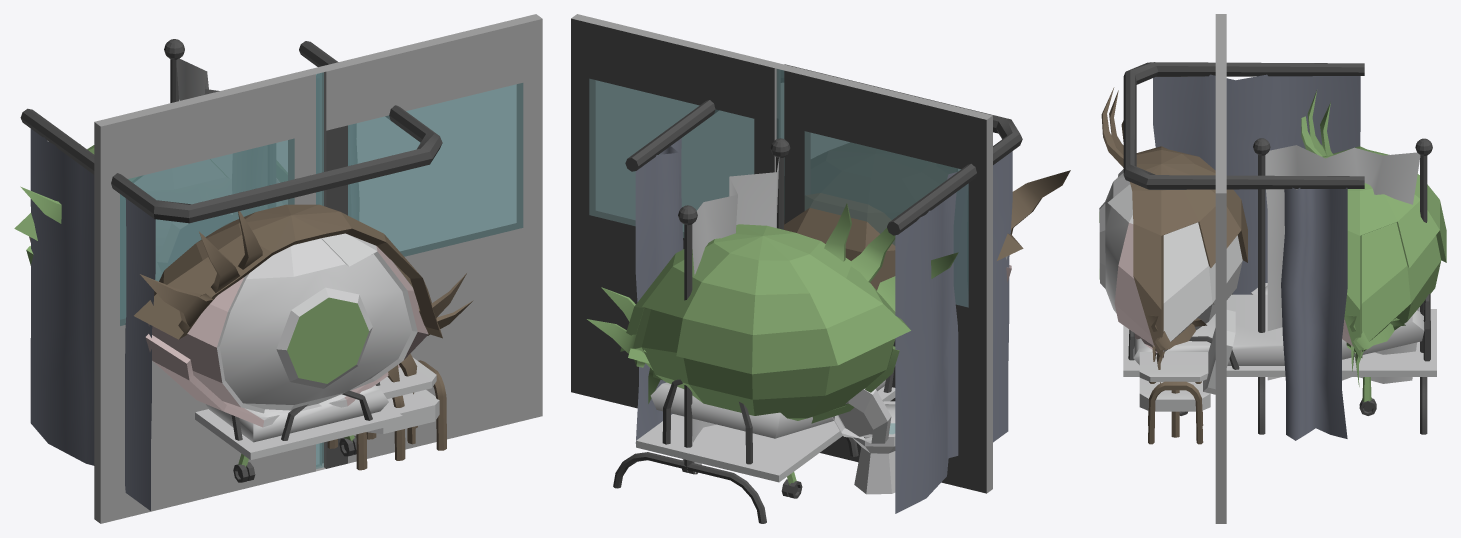
File: AssetsIv01.fbx
3 renders of one model, left to right at view 1: azimuth 30°, elevation 25°; view 2: azimuth 150°, elevation 25°; view 3: azimuth 270°, elevation 25°, orthographic. The views are drawn at different scales.
Parts seen in each view (by area): view 1: SM_PorteEntree, SM_Oeil1, SM_RideauLit, SM_Lit, SM_Chaise, SM_TableBasse, SM_Rideau, SM_Oeil2; view 2: SM_PorteEntree, SM_Oeil2, SM_RideauLit, SM_Lit, SM_Rideau, SM_Oeil1, SM_Toilette; view 3: SM_RideauLit, SM_Oeil1, SM_Oeil2, SM_Rideau, SM_Lit, SM_PorteEntree, SM_Chaise, SM_TableBasse.
Part boxes in pixels (x1,y1,x2,y2): SM_PorteEntree: (94,14,542,523); SM_Oeil1: (134,204,473,427); SM_RideauLit: (20,41,442,510); SM_Lit: (195,382,402,482); SM_Chaise: (327,360,446,470); SM_TableBasse: (366,357,436,460); SM_Rideau: (164,39,219,102); SM_Oeil2: (14,144,94,265); SM_PorteEntree: (571,14,992,493); SM_Oeil2: (587,203,958,423); SM_RideauLit: (625,64,1022,513); SM_Lit: (636,369,895,498); SM_Rideau: (613,138,858,523); SM_Oeil1: (784,170,1070,290); SM_Toilette: (832,388,895,494); SM_RideauLit: (1123,62,1364,440); SM_Oeil1: (1099,87,1247,383); SM_Oeil2: (1301,90,1446,386); SM_Rideau: (1253,138,1432,434); SM_Lit: (1123,293,1436,415); SM_PorteEntree: (1215,14,1226,523); SM_Chaise: (1139,310,1235,444); SM_TableBasse: (1139,352,1208,437).
Size of the model in its own units: 52.29 by 42.77 by 40.71.
